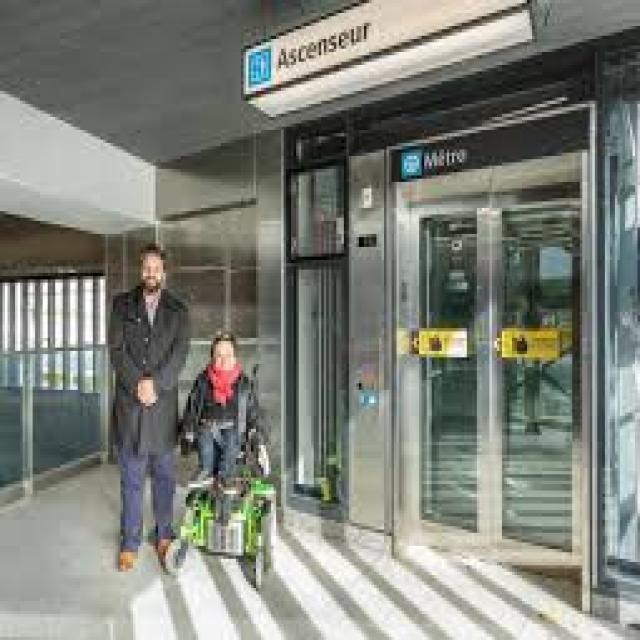elevator: (248, 50, 271, 87)
